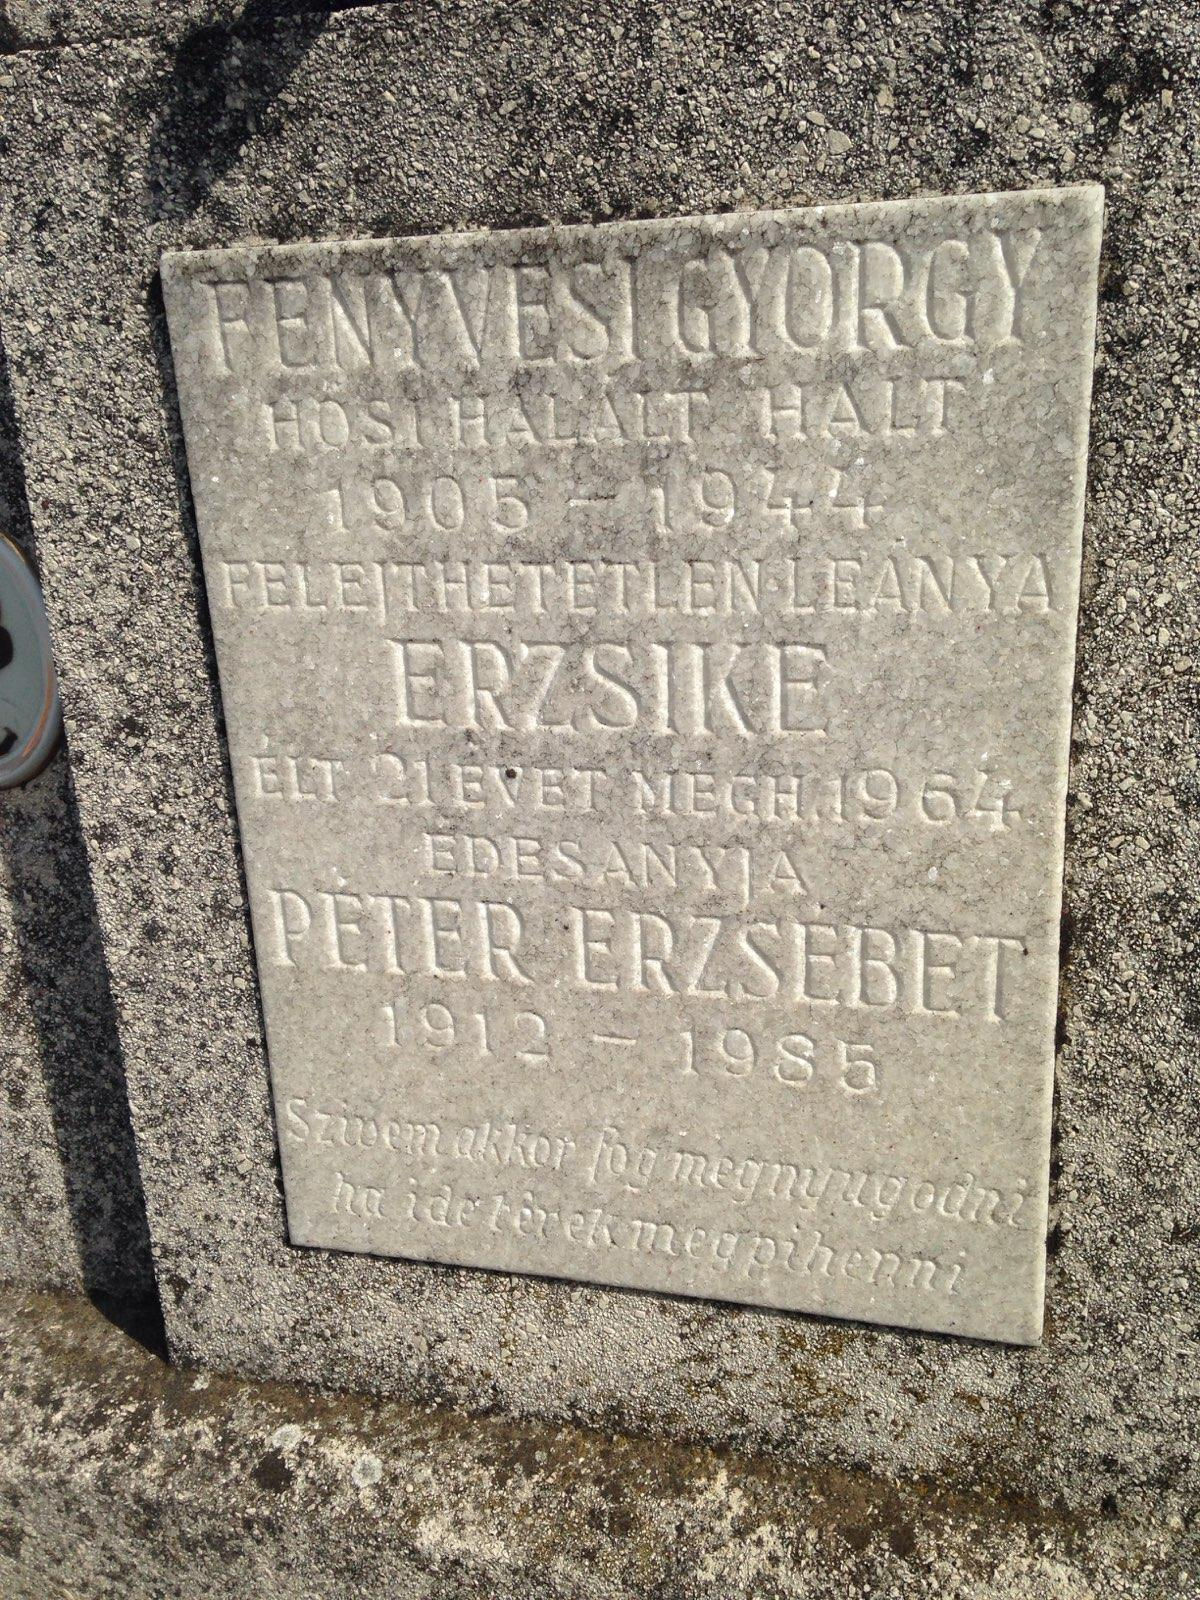flat: (127, 163, 1111, 1347)
